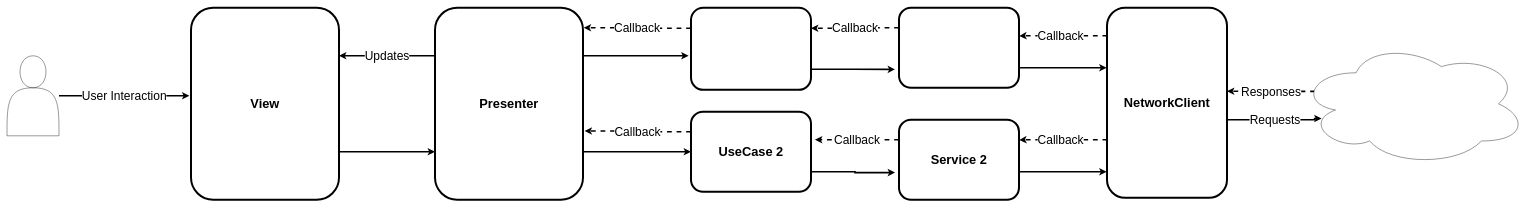
Image size: 1534x208. Some labels were removed from this diagram. The box of each missing label's shape, as (x1, y1, x2, y2) in pixels:
Cloud: (1299, 41, 1527, 166)
Service 1: (898, 7, 1020, 89)
UseCase 1: (690, 7, 812, 91)
